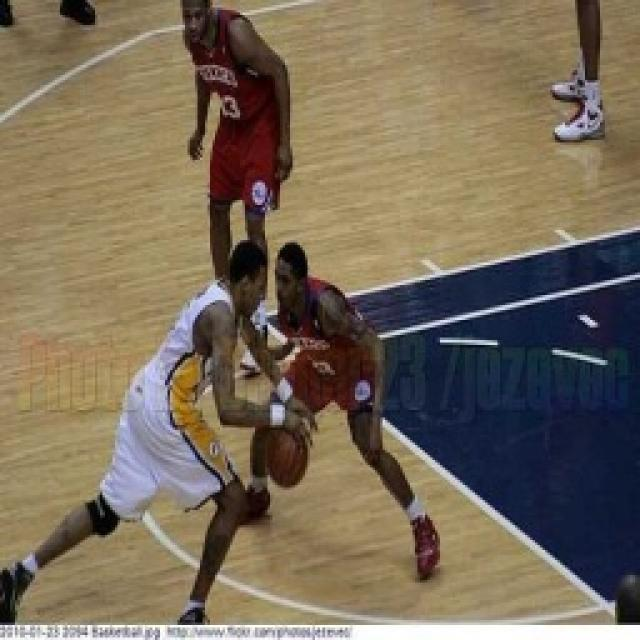rim: (254, 408, 315, 500)
